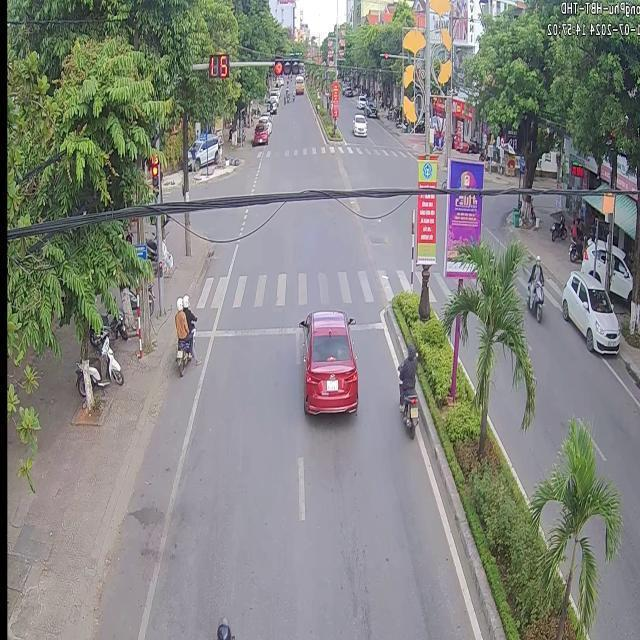car: (298, 309, 357, 411), (559, 269, 618, 352), (608, 245, 630, 302), (186, 131, 218, 169), (594, 238, 604, 285), (579, 238, 593, 271), (250, 118, 267, 144), (350, 111, 366, 136), (293, 74, 303, 92)
motobike: (173, 294, 198, 374), (397, 340, 417, 435), (98, 327, 122, 382), (524, 254, 542, 319), (99, 309, 127, 338), (87, 365, 108, 387), (74, 360, 84, 395), (88, 327, 96, 341)
red_light: (208, 53, 229, 76), (273, 56, 301, 73), (150, 153, 159, 196)
stop_line: (192, 325, 301, 336), (347, 320, 383, 327)
